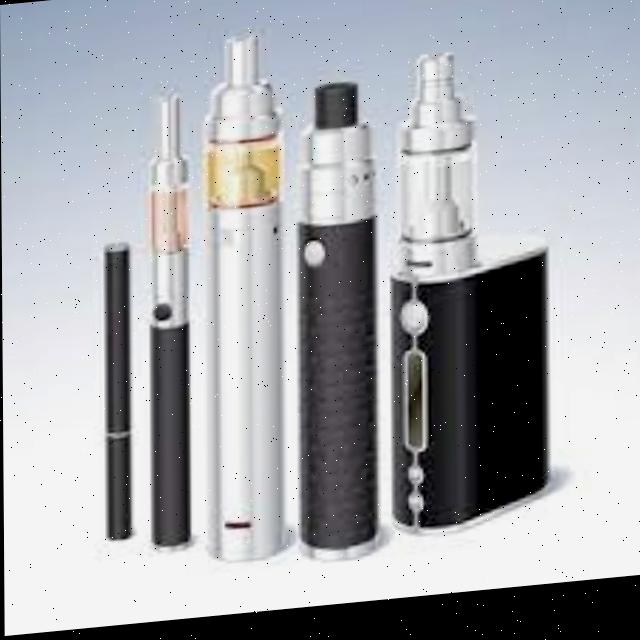vape: (390, 47, 558, 545), (189, 29, 297, 572), (292, 76, 390, 574), (142, 91, 198, 558), (105, 241, 132, 541)
